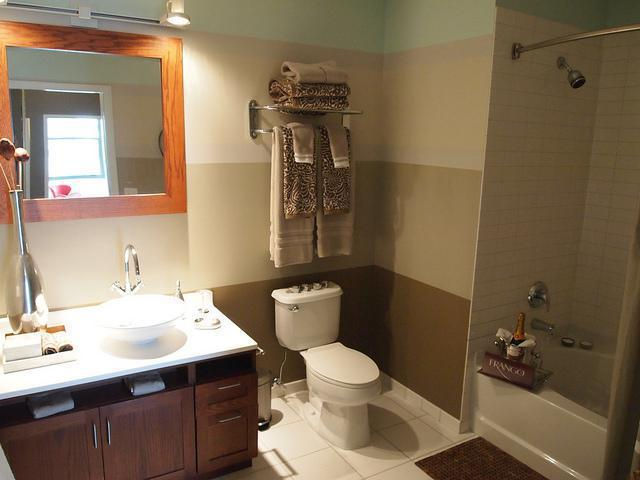Bote de Basura: (240, 360, 275, 433)
Lavamanos: (91, 237, 188, 351)
